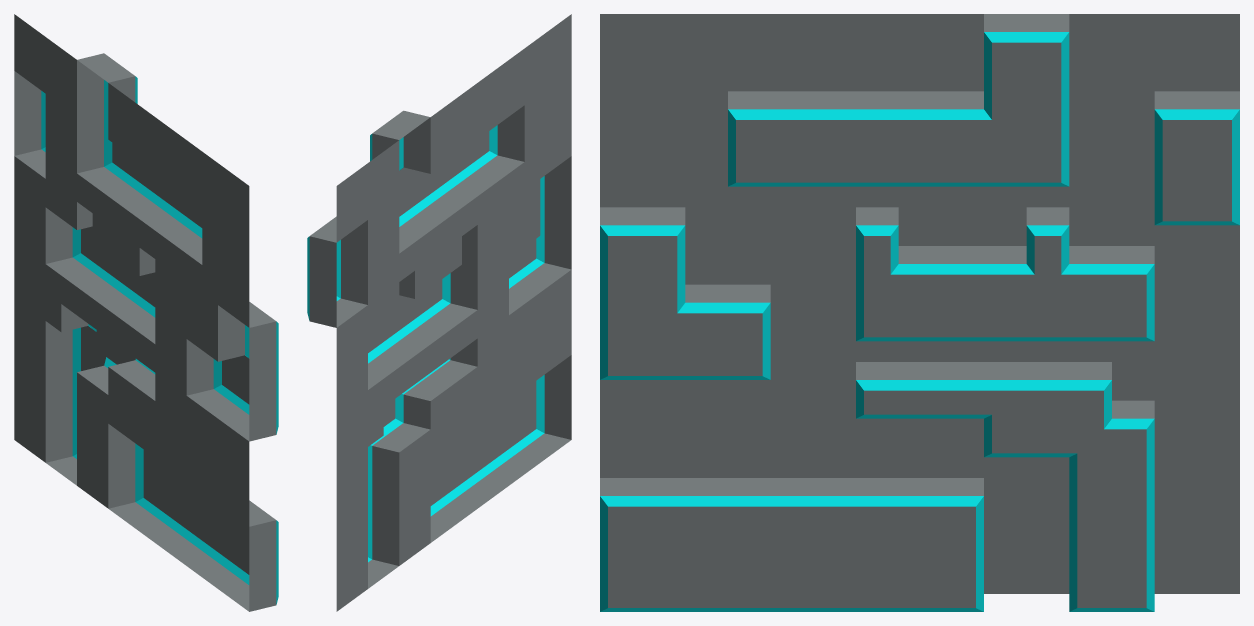
File: right.fbx
3 renders of one model, left to right at view 1: azimuth 30°, elevation 25°; view 2: azimuth 150°, elevation 25°; view 3: azimuth 270°, elevation 25°, orthographic. The views are drawn at different scales.
Visible parts, largest first — view 1: pCube2; view 2: pCube2; view 3: pCube2.
Part boxes in pixels (x1=…): pCube2: x1=14, y1=14, x2=278, y2=611; pCube2: x1=307, y1=14, x2=571, y2=611; pCube2: x1=600, y1=14, x2=1239, y2=611.
Bounding box in the file's own units: 19 × 240 × 240.
